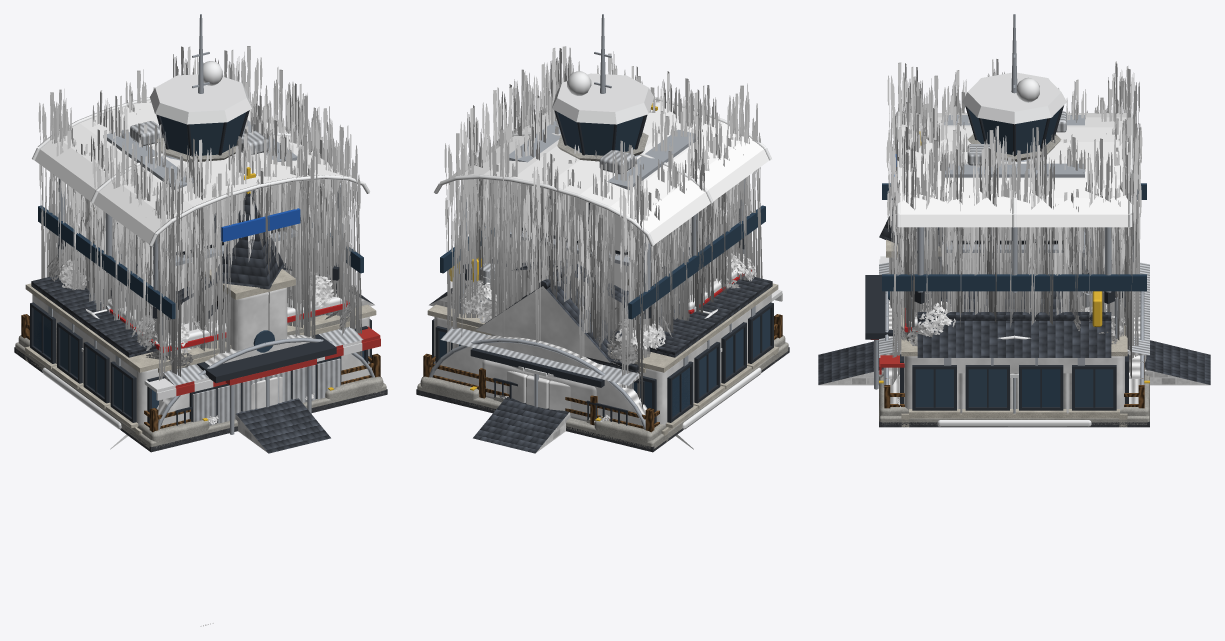
Rendered from city.glb.
3 views of the same model, side by side, from view 1: azimuth 30°, elevation 25°; view 2: azimuth 150°, elevation 25°; view 3: azimuth 270°, elevation 25° (orthographic).
Visible parts, largest first — view 1: wheat_crop, metrostation, paddy_crop, mall_base, atc, church, hangar, railstation, tower_roof_tall, factory_roof, gasstation, park_trees (+9 smaller); view 2: wheat_crop, paddy_crop, metrostation, mall_base, atc, tower_roof_tall, railstation, church, gasstation, hangar, factory_roof, park_trees (+7 smaller); view 3: wheat_crop, metrostation, mall_base, paddy_crop, railstation, atc, factory_roof, tower_roof_tall, warehouse, hangar, park_trees, gasstation (+8 smaller).
Boxes of the visible parts, x1,y1,x2,y2 form: wheat_crop: [38, 46, 362, 409]; metrostation: [32, 97, 369, 319]; paddy_crop: [51, 81, 347, 356]; mall_base: [25, 283, 376, 428]; atc: [150, 14, 251, 162]; church: [205, 167, 295, 352]; hangar: [156, 334, 374, 429]; railstation: [18, 274, 383, 446]; tower_roof_tall: [103, 20, 297, 290]; factory_roof: [93, 205, 330, 453]; gasstation: [14, 294, 387, 452]; park_trees: [47, 253, 356, 368]; wheat_crop: [444, 46, 762, 408]; paddy_crop: [453, 64, 751, 359]; metrostation: [434, 97, 771, 319]; mall_base: [427, 283, 778, 428]; atc: [552, 14, 653, 161]; tower_roof_tall: [509, 20, 698, 290]; railstation: [420, 259, 785, 445]; church: [476, 103, 657, 362]; gasstation: [416, 257, 789, 452]; hangar: [429, 335, 647, 429]; factory_roof: [473, 238, 654, 453]; park_trees: [451, 252, 756, 366]; wheat_crop: [886, 62, 1142, 384]; metrostation: [882, 111, 1146, 292]; mall_base: [865, 275, 1128, 415]; paddy_crop: [902, 59, 1123, 340]; railstation: [879, 312, 1149, 415]; atc: [962, 14, 1066, 161]; factory_roof: [818, 340, 1210, 385]; tower_roof_tall: [944, 20, 1084, 274]; warehouse: [879, 262, 1149, 413]; hangar: [883, 291, 1144, 403]; park_trees: [894, 291, 1126, 346]; gasstation: [879, 291, 1149, 427].
Size of the model in its own units: 1.03 by 2.42 by 1.42.
Materials: 78 (24 with a texture image).
